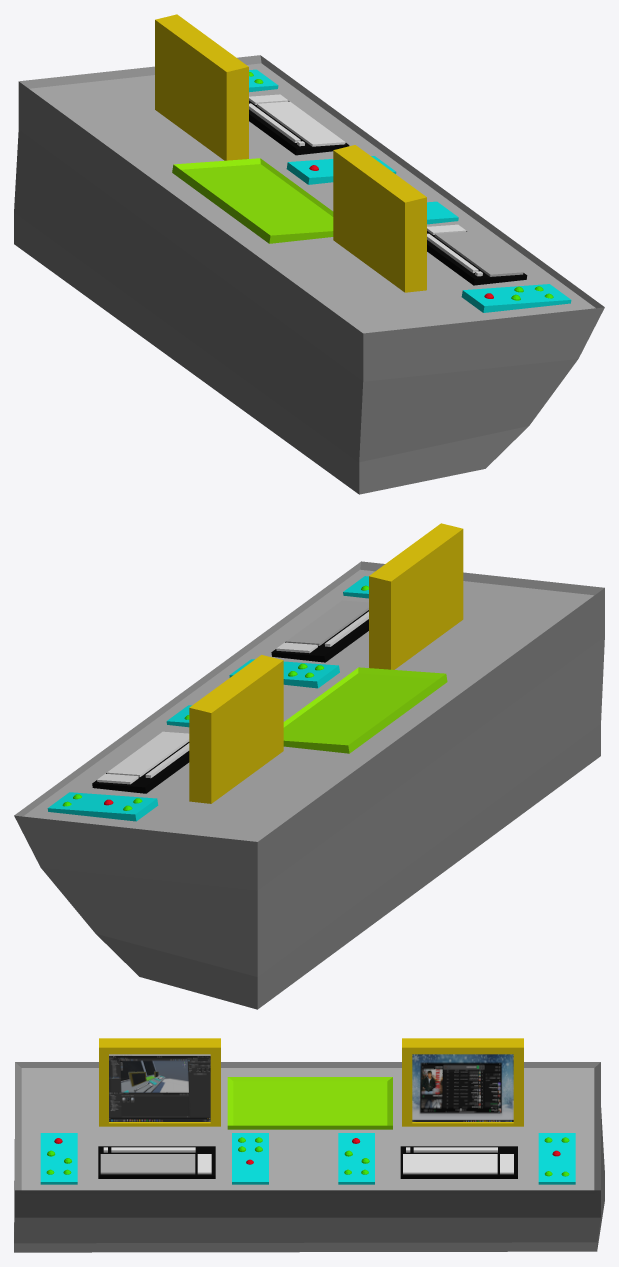
The model's file is Space Console 04.fbx.
3 views of the same model, one above another, from view 1: azimuth 30°, elevation 25°; view 2: azimuth 150°, elevation 25°; view 3: azimuth 270°, elevation 25° (orthographic). The views are drawn at different scales.
Visible parts, largest first — view 1: Cube.001, Cube.002, Cube.003, Cube.021, Cube.019, Cube.012, Cube.005, Cube.004, Cube.013, Cube.015; view 2: Cube.001, Cube.003, Cube.002, Cube.021, Cube.016, Cube.005, Cube.012, Cube.014, Cube.013, Cube.004; view 3: Cube.001, Cube.002, Cube.003, Cube.021, Cube.005, Cube.012, Cube.016, Cube.019, Cube.014, Cube.015, Cube.004, Cube.013 (+3 smaller).
Part boxes in pixels (<box>): Cube.001: <box>14,55,604,494</box>; Cube.002: <box>333,145,426,292</box>; Cube.003: <box>155,14,248,160</box>; Cube.021: <box>172,158,333,243</box>; Cube.019: <box>461,284,571,312</box>; Cube.012: <box>257,101,345,146</box>; Cube.005: <box>434,231,523,276</box>; Cube.004: <box>427,231,527,285</box>; Cube.013: <box>249,100,349,155</box>; Cube.015: <box>286,156,396,184</box>; Cube.001: <box>14,561,604,1009</box>; Cube.003: <box>189,655,283,803</box>; Cube.002: <box>369,523,463,669</box>; Cube.021: <box>283,667,447,753</box>; Cube.016: <box>47,792,158,821</box>; Cube.005: <box>286,600,368,645</box>; Cube.012: <box>107,731,189,777</box>; Cube.014: <box>229,659,339,688</box>; Cube.013: <box>92,742,189,793</box>; Cube.004: <box>271,610,368,662</box>; Cube.001: <box>14,1062,604,1252</box>; Cube.002: <box>99,1038,220,1126</box>; Cube.003: <box>402,1038,523,1126</box>; Cube.021: <box>227,1077,392,1129</box>; Cube.005: <box>100,1154,195,1174</box>; Cube.012: <box>403,1154,497,1174</box>; Cube.016: <box>538,1133,575,1184</box>; Cube.019: <box>40,1133,77,1184</box>; Cube.014: <box>232,1133,268,1184</box>; Cube.015: <box>338,1133,374,1184</box>; Cube.004: <box>98,1146,215,1178</box>; Cube.013: <box>400,1146,517,1178</box>.
Size of the model in its own units: 322 by 299 by 794.
16 materials, 2 textured.
